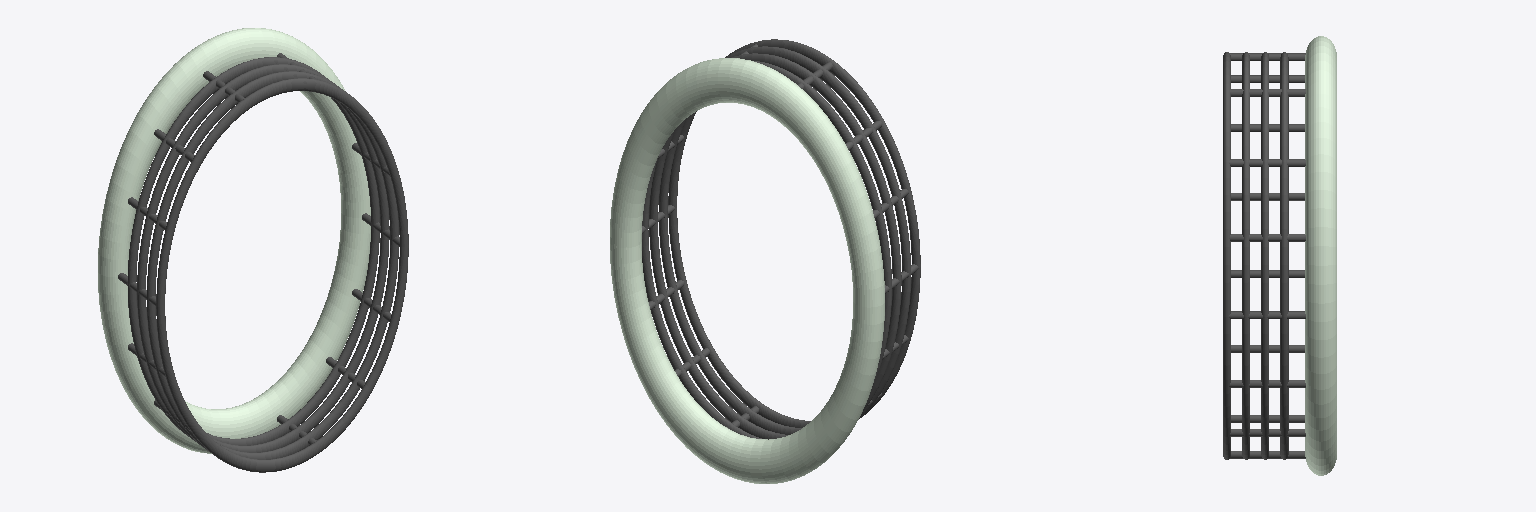
The picture shows the model from 3 angles: view 1: azimuth 30°, elevation 25°; view 2: azimuth 150°, elevation 25°; view 3: azimuth 270°, elevation 25°; orthographic projection.
Parts seen in each view (by area): view 1: black, main; view 2: main, black; view 3: black, main.
Boxes of the visible parts, x1,y1,x2,y2 form: black: [118, 53, 408, 472]; main: [98, 28, 370, 453]; main: [610, 58, 884, 483]; black: [642, 39, 920, 439]; black: [1223, 52, 1305, 459]; main: [1305, 36, 1336, 475].
Bounding box in the file's own units: 4.74 × 7.02 × 1.73.